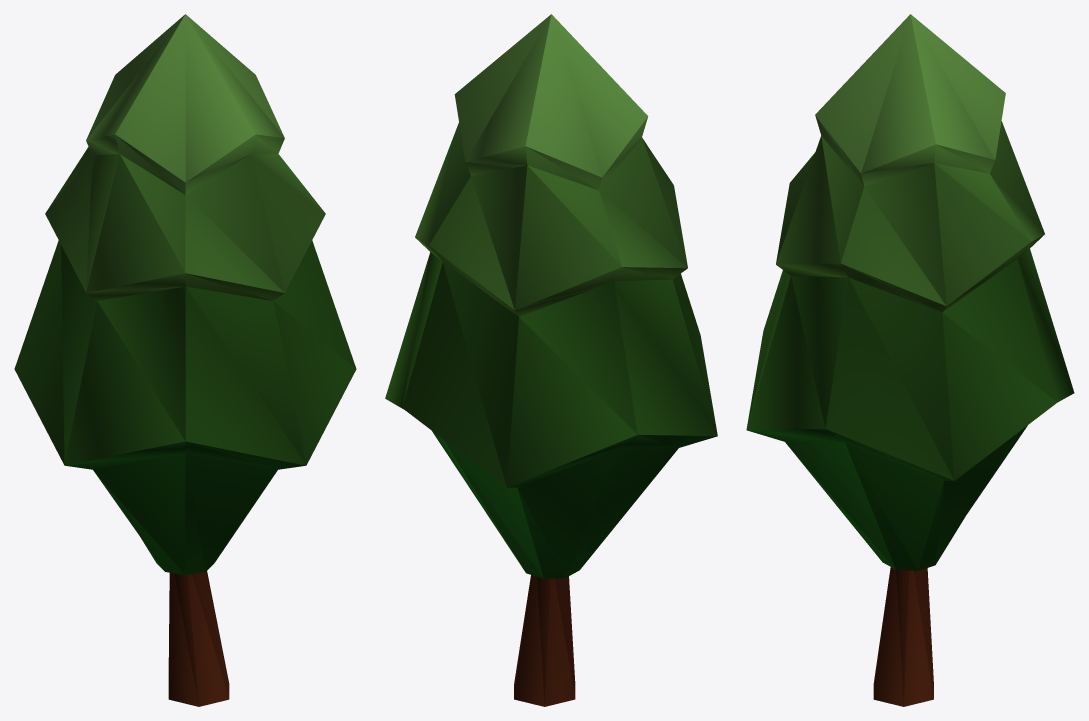
The model's file is three.gltf.
3 views of the same model, side by side, from view 1: azimuth 30°, elevation 25°; view 2: azimuth 150°, elevation 25°; view 3: azimuth 270°, elevation 25° (orthographic).
Parts seen in each view (by area): view 1: TreeDiamondA; view 2: TreeDiamondA; view 3: TreeDiamondA.
Boxes of the visible parts, <box> form: TreeDiamondA: <box>14,14,356,706</box>; TreeDiamondA: <box>385,14,717,706</box>; TreeDiamondA: <box>746,14,1074,706</box>.
Size of the model in its own units: 0.4415 by 0.9996 by 0.4415.
